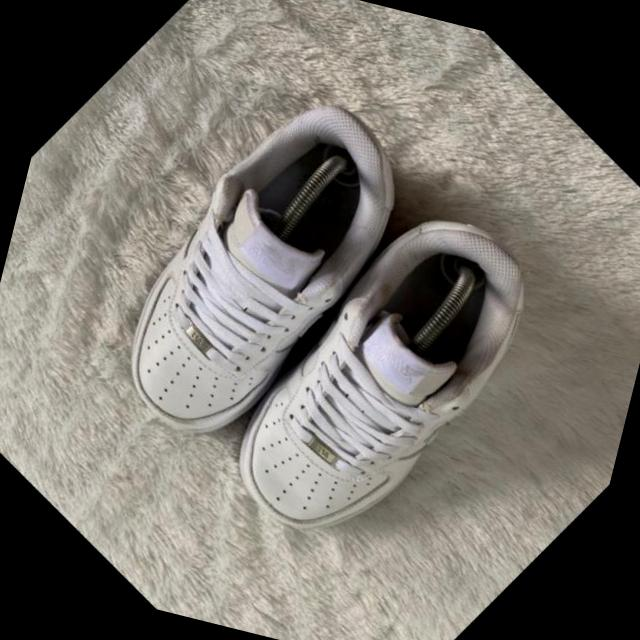nike_fake_airforce: (41, 29, 478, 506), (168, 138, 600, 614)
